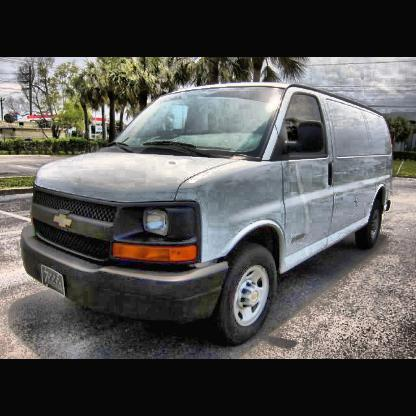Chevrolet Express Cargo Van 2007: (19, 81, 398, 345)
